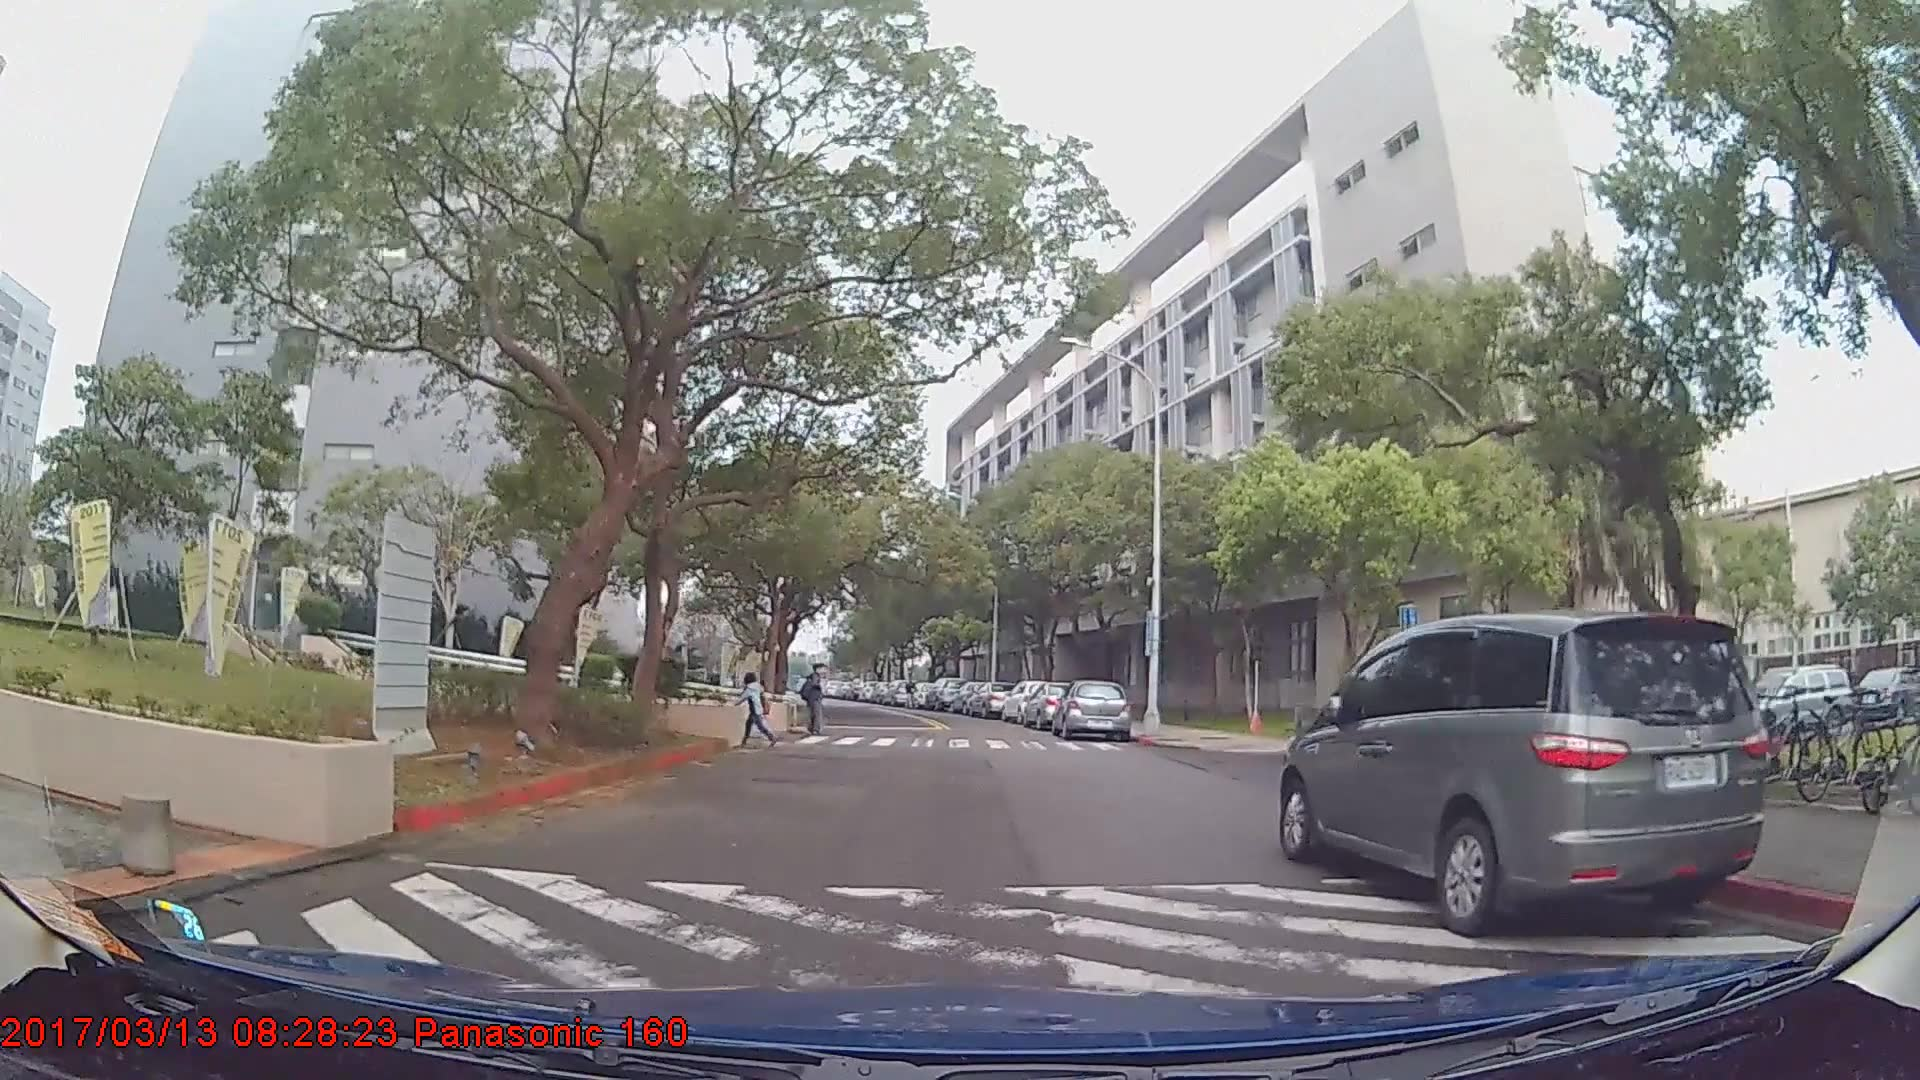pedestrian: (741, 672, 772, 749), (800, 661, 827, 740)
vehicle: (1276, 608, 1770, 936), (1718, 661, 1852, 741), (1055, 677, 1131, 740), (1849, 663, 1920, 727), (1017, 678, 1086, 728), (999, 677, 1058, 724), (966, 682, 1011, 718), (922, 674, 964, 709)
